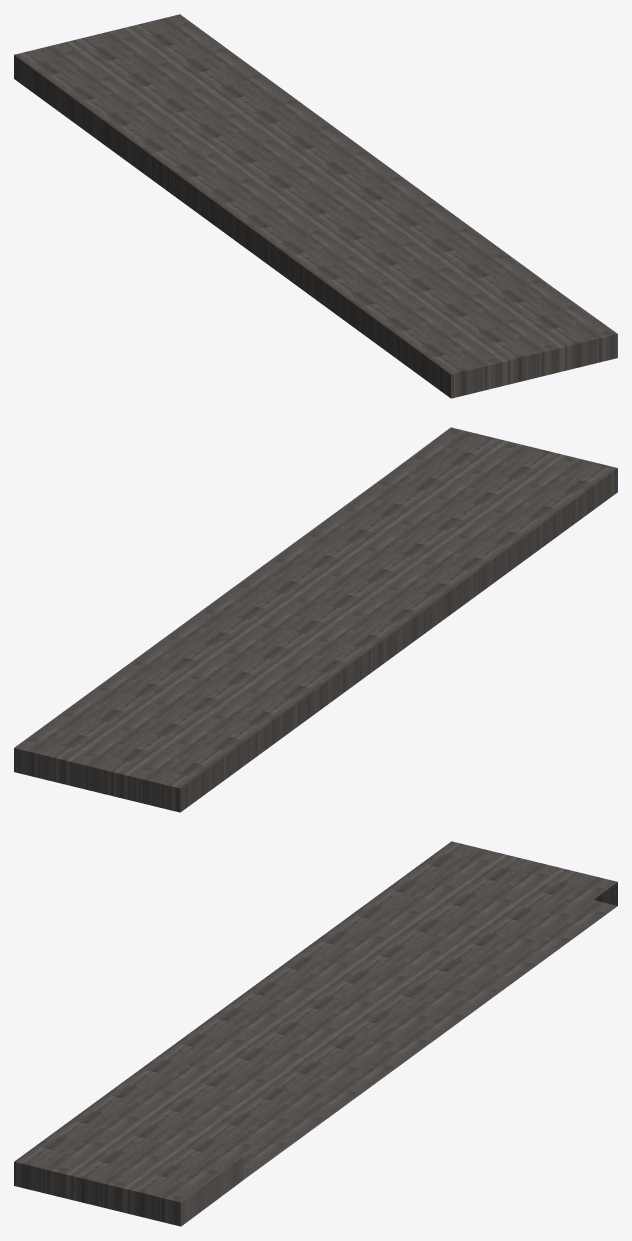
File: Floor_CastineCovePlus7WhitefillOak_.glb
The picture shows the model from 3 angles, top to bottom: view 1: azimuth 30°, elevation 25°; view 2: azimuth 150°, elevation 25°; view 3: azimuth 330°, elevation 25°; orthographic projection.
Visible parts, largest first — view 1: Floor_Castine Cove Plus 7Whitefill Oak_; view 2: Floor_Castine Cove Plus 7Whitefill Oak_; view 3: Floor_Castine Cove Plus 7Whitefill Oak_.
Boxes of the visible parts, x1,y1,x2,y2 form: Floor_Castine Cove Plus 7Whitefill Oak_: (14, 14, 617, 398); Floor_Castine Cove Plus 7Whitefill Oak_: (14, 427, 617, 812); Floor_Castine Cove Plus 7Whitefill Oak_: (14, 841, 617, 1226).
Size of the model in its own units: 4.61 by 0.6352 by 20.9.
1 material, 1 textured.
